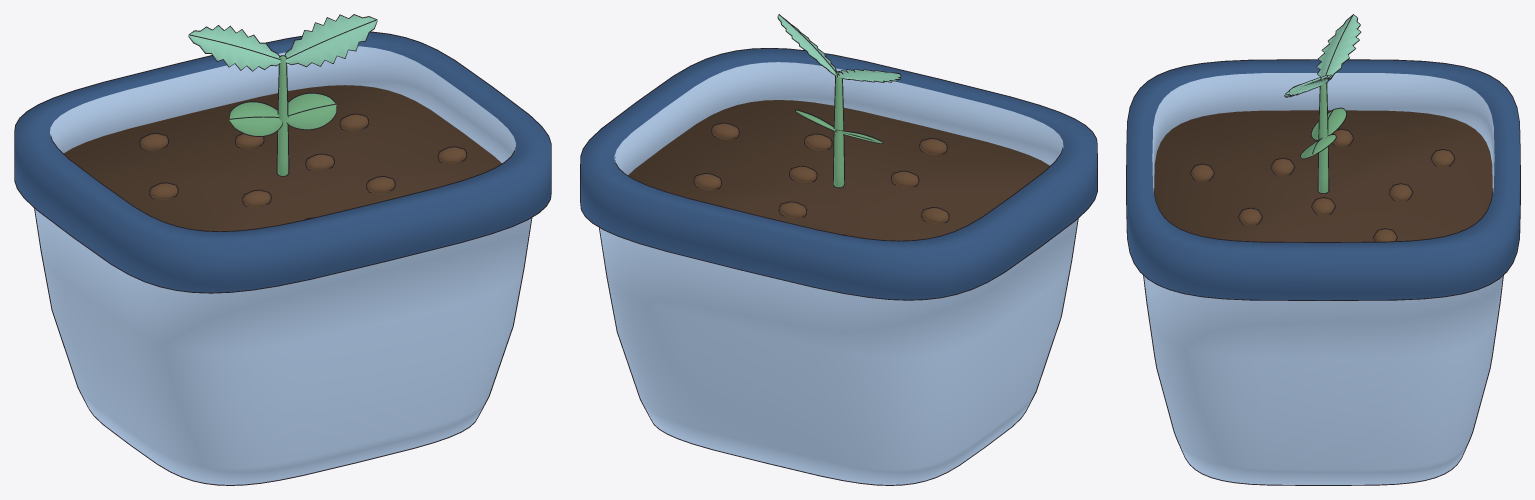
The model's file is cannabis_menthe_rose_seedling_toon.glb.
The picture shows the model from 3 angles, left to right: view 1: azimuth 30°, elevation 25°; view 2: azimuth 150°, elevation 25°; view 3: azimuth 270°, elevation 25°; orthographic projection. The views are drawn at different scales.
Parts seen in each view (by area): view 1: cannabis_menthe_rose_seedling_Geometry; view 2: cannabis_menthe_rose_seedling_Geometry; view 3: cannabis_menthe_rose_seedling_Geometry.
Part boxes in pixels (x1,y1,x2,y2): cannabis_menthe_rose_seedling_Geometry: (14,14,551,485); cannabis_menthe_rose_seedling_Geometry: (580,14,1097,485); cannabis_menthe_rose_seedling_Geometry: (1126,14,1520,485).
Size of the model in its own units: 0.4012 by 0.3481 by 0.3413.
